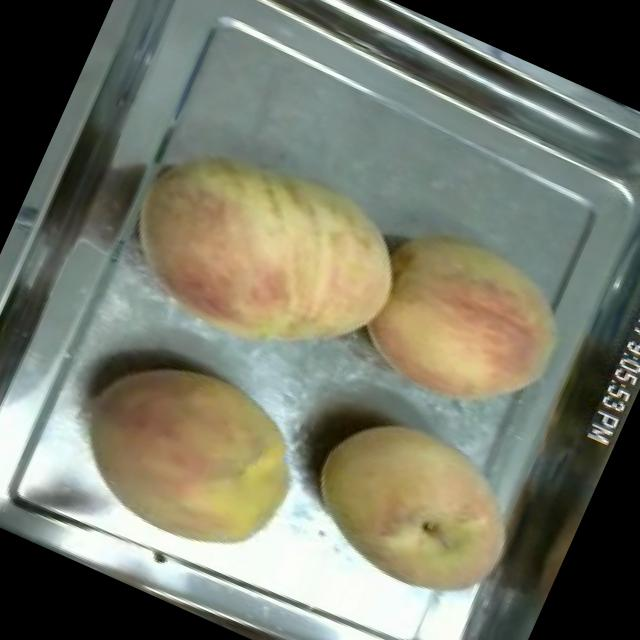Fruit: (100, 115, 416, 398), (47, 324, 331, 587), (278, 385, 547, 631), (334, 201, 596, 446)
